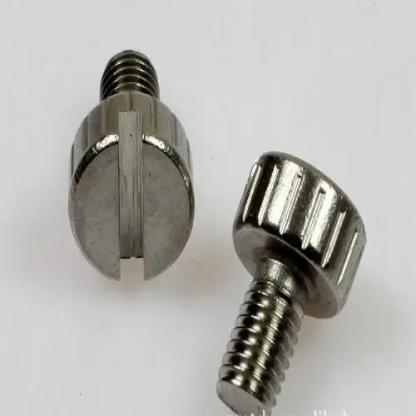FOD: (200, 148, 388, 404), (41, 37, 207, 289)
